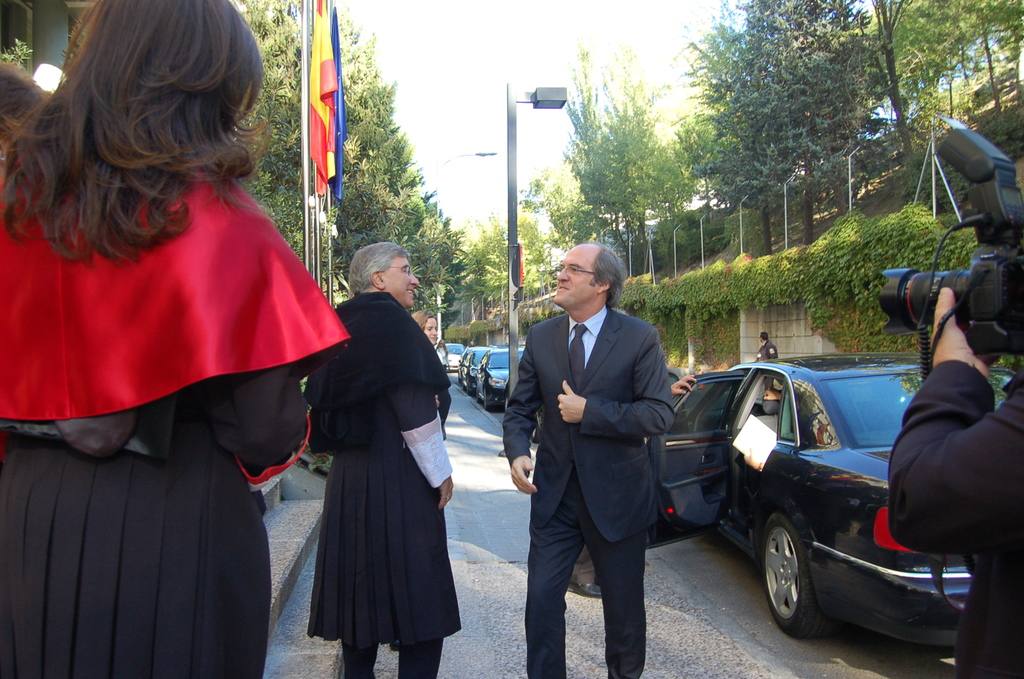Car: (445, 343, 1015, 643)
